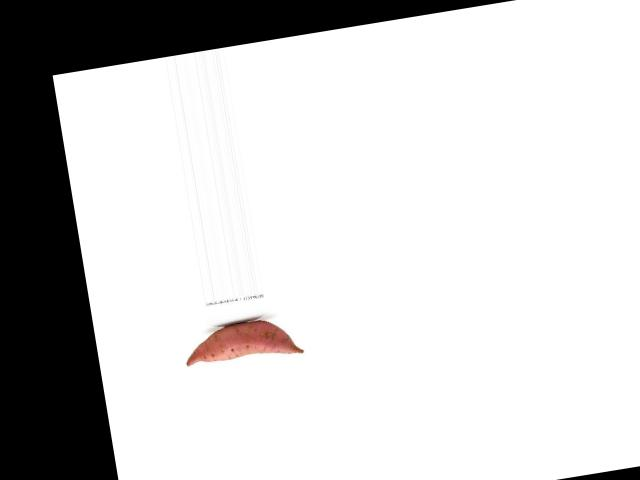sweet_potato: (180, 312, 305, 378)
